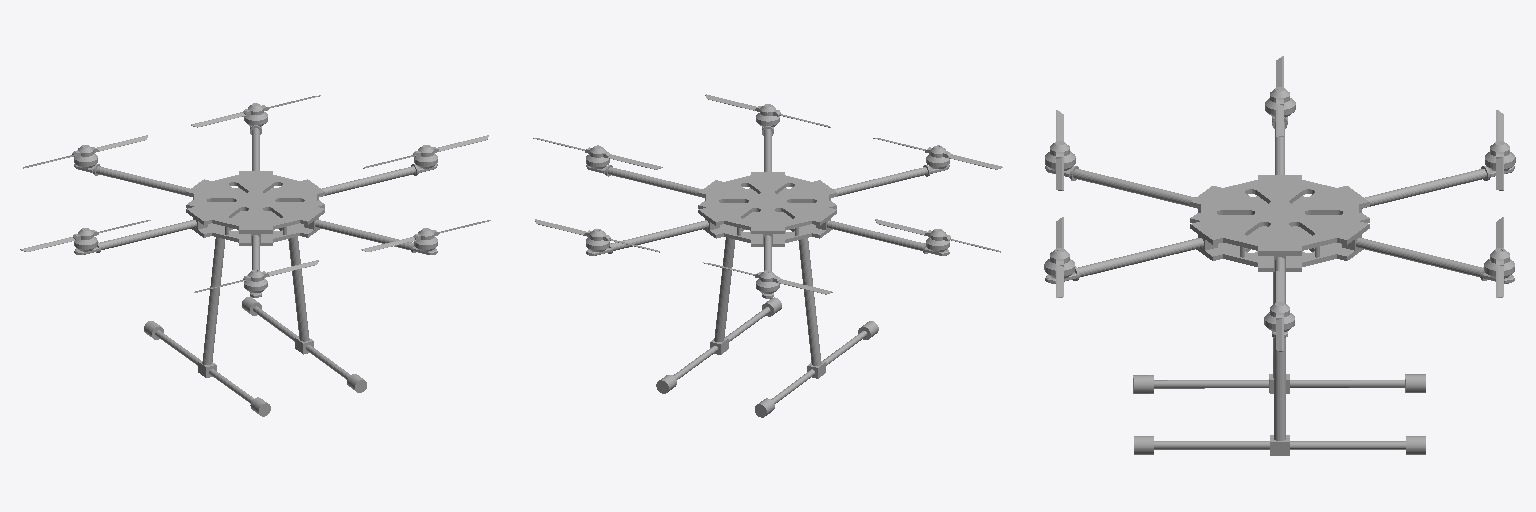
robot.urdf — myfirst:
<?xml version="1.0"?>
<robot name="myfirst">

<!--Frame -->

  <link name="base_link">
    <visual>
      <origin rpy="0 0 0" xyz="0 0 0"/>
      <geometry>
        <mesh filename="package://heifu/meshes/base_link.dae" scale="0.002 0.002 0.002"/>
      </geometry> 
      <material name="white"/>    
    </visual>
    <collision>
      <origin rpy="0 0 0" xyz="0 0 0"/>
      <geometry>
        <mesh filename="package://heifu/meshes/base_link.dae" scale="0.002 0.002 0.002"/>
      </geometry>
    </collision>
    <inertial>
      <mass value="3.0"/>
      <inertia ixx="0.1" ixy="0.0" ixz="0.0" iyy="0.1" iyz="0.0" izz="0.5"/>
    </inertial>
  </link>

<!--Pernas -->
  <link name="pernas">
    <visual>
      <origin rpy="0 0 0" xyz="0 0 0"/>
      <geometry>
        <mesh filename="package://heifu/meshes/perna.dae" scale="0.002 0.002 0.002"/>
      </geometry> 
      <material name="white"/>    
    </visual>
    <collision>
      <origin rpy="0 0 0" xyz="0 0 0"/>
      <geometry>
        <mesh filename="package://heifu/meshes/perna.dae" scale="0.002 0.002 0.002"/>
      </geometry>
    </collision>
    <inertial>
      <mass value="0.25"/>
      <inertia ixx="0.02" ixy="0.0" ixz="0.0" iyy="0.02" iyz="0.0" izz="0.002"/>
    </inertial>
  </link>

  <link name="pernas2">
    <visual>
      <origin rpy="0 0 0" xyz="0 0 0"/>
      <geometry>
        <mesh filename="package://heifu/meshes/perna.dae" scale="0.002 0.002 0.002"/>
      </geometry> 
      <material name="white"/>    
    </visual>
    <collision>
      <origin rpy="0 0 0" xyz="0 0 0"/>
      <geometry>
        <mesh filename="package://heifu/meshes/perna.dae" scale="0.002 0.002 0.002"/>
      </geometry>
    </collision>
    <inertial>
      <mass value="0.25"/>
      <inertia ixx="0.02" ixy="0.0" ixz="0.0" iyy="0.02" iyz="0.0" izz="0.002"/>
    </inertial>
  </link>


<!--Uniao pernas com frame -->
  <joint name="base_to_leg1" type="fixed">
      <parent link="base_link"/>
      <child link="pernas"/>
      <origin xyz="0.2 0 0" rpy="0 0 0"/>
  </joint>

  <joint name="base_to_leg2" type="fixed">
      <parent link="base_link"/>
      <child link="pernas2"/>
      <origin xyz="-0.2 0 0" rpy="0 0 3.15"/>
  </joint>




<!--Propellers  -->
  <link name="prop1">
    <visual>
      <origin rpy="0 0 0" xyz="0 0 0"/>
      <geometry>
        <mesh filename="package://heifu/meshes/propD.dae" scale="0.002 0.002 0.002"/>
      </geometry> 
      <material name="white"/>    
    </visual>
    <collision>
      <origin rpy="0 0 0" xyz="0 0 0"/>
      <geometry>
        <mesh filename="package://heifu/meshes/propD.dae" scale="0.002 0.002 0.002"/>
      </geometry>
    </collision>
    <inertial>
      <mass value="0.002"/>
      <inertia ixx="9.75e-07" ixy="0.0" ixz="0.0" iyy="0.000326704166667" iyz="0.0" izz="0.000327604166667"/>
    </inertial>
  </link>

  <link name="prop2">
    <visual>
      <origin rpy="0 0 0" xyz="0 0 0"/>
      <geometry>
        <mesh filename="package://heifu/meshes/propD.dae" scale="0.002 0.002 0.002"/>
      </geometry> 
      <material name="white"/>    
    </visual>
    <collision>
      <origin rpy="0 0 0" xyz="0 0 0"/>
      <geometry>
        <mesh filename="package://heifu/meshes/propD.dae" scale="0.002 0.002 0.002"/>
      </geometry>
    </collision>
    <inertial>
      <mass value="0.002"/>
      <inertia ixx="9.75e-07" ixy="0.0" ixz="0.0" iyy="0.000326704166667" iyz="0.0" izz="0.000327604166667"/>
    </inertial>
  </link>

  <link name="prop3">
    <visual>
      <origin rpy="0 0 0" xyz="0 0 0"/>
      <geometry>
        <mesh filename="package://heifu/meshes/propD.dae" scale="0.002 0.002 0.002"/>
      </geometry> 
      <material name="white"/>    
    </visual>
    <collision>
      <origin rpy="0 0 0" xyz="0 0 0"/>
      <geometry>
        <mesh filename="package://heifu/meshes/propD.dae" scale="0.002 0.002 0.002"/>
      </geometry>
    </collision>
    <inertial>
      <mass value="0.002"/>
      <inertia ixx="9.75e-07" ixy="0.0" ixz="0.0" iyy="0.000326704166667" iyz="0.0" izz="0.000327604166667"/>
    </inertial>
  </link>


  <link name="prop4">
    <visual>
      <origin rpy="0 0 0" xyz="0 0 0"/>
      <geometry>
        <mesh filename="package://heifu/meshes/propE.dae" scale="0.002 0.002 0.002"/>
      </geometry> 
      <material name="white"/>    
    </visual>
    <collision>
      <origin rpy="0 0 0" xyz="0 0 0"/>
      <geometry>
        <mesh filename="package://heifu/meshes/propE.dae" scale="0.002 0.002 0.002"/>
      </geometry>
    </collision>
    <inertial>
      <mass value="0.002"/>
      <inertia ixx="9.75e-07" ixy="0.0" ixz="0.0" iyy="0.000326704166667" iyz="0.0" izz="0.000327604166667"/>
    </inertial>
  </link>


  <link name="prop5">
    <visual>
      <origin rpy="0 0 0" xyz="0 0 0"/>
      <geometry>
        <mesh filename="package://heifu/meshes/propE.dae" scale="0.002 0.002 0.002"/>
      </geometry> 
      <material name="white"/>    
    </visual>
    <collision>
      <origin rpy="0 0 0" xyz="0 0 0"/>
      <geometry>
        <mesh filename="package://heifu/meshes/propE.dae" scale="0.002 0.002 0.002"/>
      </geometry>
    </collision>
    <inertial>
      <mass value="0.002"/>
      <inertia ixx="9.75e-07" ixy="0.0" ixz="0.0" iyy="0.000326704166667" iyz="0.0" izz="0.000327604166667"/>
    </inertial>
  </link>


  <link name="prop6">
    <visual>
      <origin rpy="0 0 0" xyz="0 0 0"/>
      <geometry>
        <mesh filename="package://heifu/meshes/propE.dae" scale="0.002 0.002 0.002"/>
      </geometry> 
      <material name="white"/>    
    </visual>
    <collision>
      <origin rpy="0 0 0" xyz="0 0 0"/>
      <geometry>
        <mesh filename="package://heifu/meshes/propE.dae" scale="0.002 0.002 0.002"/>
      </geometry>
    </collision>
    <inertial>
      <mass value="0.002"/>
      <inertia ixx="9.75e-07" ixy="0.0" ixz="0.0" iyy="0.000326704166667" iyz="0.0" izz="0.000327604166667"/>
    </inertial>
  </link>



<!--Uniao propellers com frame -->
  <joint name="base_to_prop1" type="continuous">
      <parent link="base_link"/>
      <child link="prop1"/>
      <origin xyz="0.98 0 0" rpy="0 0 0"/>
      <axis rpy="0 0 0" xyz="0 0 1"/>
  </joint>


  <joint name="base_to_prop2" type="continuous">
      <parent link="base_link"/>
      <child link="prop2"/>
      <origin xyz="-0.49 0.85 0" rpy="0 0 0"/>
      <axis rpy="0 0 0" xyz="0 0 1"/>
  </joint>


  <joint name="base_to_prop3" type="continuous">
      <parent link="base_link"/>
      <child link="prop3"/>
      <origin xyz="-0.49 -0.85 0" rpy="0 0 0"/>
      <axis rpy="0 0 0" xyz="0 0 1"/>
  </joint>
 

  <joint name="base_to_prop4" type="continuous">
      <parent link="base_link"/>
      <child link="prop4"/>
      <origin xyz="-0.98 0 0" rpy="0 0 0"/>
      <axis rpy="0 0 0" xyz="0 0 1"/>
  </joint>


  <joint name="base_to_prop5" type="continuous">
      <parent link="base_link"/>
      <child link="prop5"/>
      <origin xyz="0.49 0.85 0" rpy="0 0 0"/>
      <axis rpy="0 0 0" xyz="0 0 1"/>
  </joint>


  <joint name="base_to_prop6" type="continuous">
      <parent link="base_link"/>
      <child link="prop6"/>
      <origin xyz="0.49 -0.85 0" rpy="0 0 0"/>
      <axis rpy="0 0 0" xyz="0 0 1"/>
  </joint>
 

<!--Plugins de simulacao gazebo -->
  <gazebo>

   <!--Plugin de IMU. Publica Giroscopio e acelerometro -->
   <plugin name="imu_plugin" filename="libgazebo_ros_imu.so">
      <alwaysOn>true</alwaysOn>
      <bodyName>base_link</bodyName>
      <topicName>imu</topicName>
      <serviceName>imu_service</serviceName>
      <gaussianNoise>1.0</gaussianNoise>
      <updateRate>20.0</updateRate>
      <xyzOffsets>0 0 0</xyzOffsets>
      <rpyOffsets>0 0 0</rpyOffsets>
    </plugin>


    <!--Plugin de GPS -->
    <plugin name="gps_controller" filename="libhector_gazebo_ros_gps.so">
      <robotNamespace>myfirst</robotNamespace>
      <updateRate>40</updateRate>
      <bodyName>base_link</bodyName>
      <frameId>base_link</frameId>
      <topicName>gps/fix</topicName>
      <velocityTopicName>navsat/vel</velocityTopicName>
      <referenceLatitude>0.0</referenceLatitude>
      <referenceLongitude>0.0</referenceLongitude>
      <referenceHeading>0</referenceHeading>
      <referenceAltitude>0.8</referenceAltitude>
      <drift>0.001 0.001 0.001</drift>
    </plugin>

    <plugin filename="librotors_gazebo_multirotor_base_plugin.so" name="rosbag">
      <robotNamespace>myfirst</robotNamespace>
      <linkName>base_link</linkName>
      <rotorVelocitySlowdownSim>10</rotorVelocitySlowdownSim>
    </plugin>


    <!--Plugin de controle de velocidade dos motores -->
    <plugin filename="librotors_gazebo_motor_model.so" name="right_motor_model">
      <robotNamespace>myfirst</robotNamespace>
      <jointName>base_to_prop1</jointName>
      <linkName>prop1</linkName>
      <turningDirection>cw</turningDirection>
      <timeConstantUp>0.0</timeConstantUp>
      <timeConstantDown>0.0</timeConstantDown>
      <maxRotVelocity>550</maxRotVelocity>
      <motorConstant>2.39e-05</motorConstant>
      <momentConstant>0.016</momentConstant>
      <commandSubTopic>gazebo/command/motor_speed</commandSubTopic>
      <motorNumber>0</motorNumber>
      <rotorDragCoefficient>1.3858e-06</rotorDragCoefficient>
      <rollingMomentCoefficient>1e-06</rollingMomentCoefficient>
      <motorSpeedPubTopic>motor_speed/0</motorSpeedPubTopic>
      <rotorVelocitySlowdownSim>0.5</rotorVelocitySlowdownSim>
    </plugin>

    <plugin filename="librotors_gazebo_motor_model.so" name="front_left_motor_model">
      <robotNamespace>myfirst</robotNamespace>
      <jointName>base_to_prop2</jointName>
      <linkName>prop2</linkName>
      <turningDirection>cw</turningDirection>
      <timeConstantUp>0.0</timeConstantUp>
      <timeConstantDown>0.0</timeConstantDown>
      <maxRotVelocity>550</maxRotVelocity>
      <motorConstant>2.39e-05</motorConstant>
      <momentConstant>0.016</momentConstant>
      <commandSubTopic>gazebo/command/motor_speed</commandSubTopic>
      <motorNumber>1</motorNumber>
      <rotorDragCoefficient>1.3858e-06</rotorDragCoefficient>
      <rollingMomentCoefficient>1e-06</rollingMomentCoefficient>
      <motorSpeedPubTopic>motor_speed/1</motorSpeedPubTopic>
      <rotorVelocitySlowdownSim>0.5</rotorVelocitySlowdownSim>
    </plugin>

    <plugin filename="librotors_gazebo_motor_model.so" name="back_left_motor_model">
      <robotNamespace>myfirst</robotNamespace>
      <jointName>base_to_prop3</jointName>
      <linkName>prop3</linkName>
      <turningDirection>cw</turningDirection>
      <timeConstantUp>0.0</timeConstantUp>
      <timeConstantDown>0.0</timeConstantDown>
      <maxRotVelocity>550</maxRotVelocity>
      <motorConstant>2.39e-05</motorConstant>
      <momentConstant>0.016</momentConstant>
      <commandSubTopic>gazebo/command/motor_speed</commandSubTopic>
      <motorNumber>2</motorNumber>
      <rotorDragCoefficient>1.3858e-06</rotorDragCoefficient>
      <rollingMomentCoefficient>1e-06</rollingMomentCoefficient>
      <motorSpeedPubTopic>motor_speed/2</motorSpeedPubTopic>
      <rotorVelocitySlowdownSim>0.5</rotorVelocitySlowdownSim>
    </plugin>

    <plugin filename="librotors_gazebo_motor_model.so" name="left_motor_model">
      <robotNamespace>myfirst</robotNamespace>
      <jointName>base_to_prop4</jointName>
      <linkName>prop4</linkName>
      <turningDirection>ccw</turningDirection>
      <timeConstantUp>0.0</timeConstantUp>
      <timeConstantDown>0.0</timeConstantDown>
      <maxRotVelocity>550</maxRotVelocity>
      <motorConstant>2.39e-05</motorConstant>
      <momentConstant>0.016</momentConstant>
      <commandSubTopic>gazebo/command/motor_speed</commandSubTopic>
      <motorNumber>3</motorNumber>
      <rotorDragCoefficient>1.3858e-06</rotorDragCoefficient>
      <rollingMomentCoefficient>1e-06</rollingMomentCoefficient>
      <motorSpeedPubTopic>motor_speed/3</motorSpeedPubTopic>
      <rotorVelocitySlowdownSim>0.5</rotorVelocitySlowdownSim>
    </plugin>


    <plugin filename="librotors_gazebo_motor_model.so" name="front_right_motor_model">
      <robotNamespace>myfirst</robotNamespace>
      <jointName>base_to_prop5</jointName>
      <linkName>prop5</linkName>
      <turningDirection>ccw</turningDirection>
      <timeConstantUp>0.0</timeConstantUp>
      <timeConstantDown>0.0</timeConstantDown>
      <maxRotVelocity>550</maxRotVelocity>
      <motorConstant>2.39e-05</motorConstant>
      <momentConstant>0.016</momentConstant>
      <commandSubTopic>gazebo/command/motor_speed</commandSubTopic>
      <motorNumber>4</motorNumber>
      <rotorDragCoefficient>1.3858e-06</rotorDragCoefficient>
      <rollingMomentCoefficient>1e-06</rollingMomentCoefficient>
      <motorSpeedPubTopic>motor_speed/4</motorSpeedPubTopic>
      <rotorVelocitySlowdownSim>0.5</rotorVelocitySlowdownSim>
    </plugin>



    <plugin filename="librotors_gazebo_motor_model.so" name="back_right_motor_model">
      <robotNamespace>myfirst</robotNamespace>
      <jointName>base_to_prop6</jointName>
      <linkName>prop6</linkName>
      <turningDirection>ccw</turningDirection>
      <timeConstantUp>0.0</timeConstantUp>
      <timeConstantDown>0.0</timeConstantDown>
      <maxRotVelocity>550</maxRotVelocity>
      <motorConstant>2.39e-05</motorConstant>
      <momentConstant>0.016</momentConstant>
      <commandSubTopic>gazebo/command/motor_speed</commandSubTopic>
      <motorNumber>5</motorNumber>
      <rotorDragCoefficient>1.3858e-06</rotorDragCoefficient>
      <rollingMomentCoefficient>1e-06</rollingMomentCoefficient>
      <motorSpeedPubTopic>motor_speed/5</motorSpeedPubTopic>
      <rotorVelocitySlowdownSim>0.5</rotorVelocitySlowdownSim>
    </plugin>
  

  </gazebo>
</robot>

--- Facts derived from the render (not from the file) ---
Views: 3 orthographic renders of the robot side by side, from view 1: azimuth 30°, elevation 25°; view 2: azimuth 150°, elevation 25°; view 3: azimuth 270°, elevation 25°.
Model myfirst with 9 links and 8 joints (6 continuous, 2 fixed), rooted at base_link, posed every joint at zero.
Links seen in each view (by area): view 1: base_link, pernas2, pernas, prop4, prop5, prop6, prop1, prop2, prop3; view 2: base_link, pernas2, pernas, prop6, prop3, prop4, prop1, prop2, prop5; view 3: base_link, pernas, pernas2, prop1, prop4, prop2, prop3, prop5, prop6.
Link boxes in pixels (bbox=[...]): base_link: bbox=[74, 104, 437, 297]; pernas2: bbox=[144, 237, 270, 416]; pernas: bbox=[242, 237, 366, 392]; prop4: bbox=[20, 220, 150, 251]; prop5: bbox=[191, 95, 320, 127]; prop6: bbox=[361, 220, 490, 251]; prop1: bbox=[363, 135, 488, 168]; prop2: bbox=[23, 135, 147, 168]; prop3: bbox=[194, 260, 318, 292]; base_link: bbox=[586, 105, 949, 298]; pernas2: bbox=[755, 231, 878, 417]; pernas: bbox=[656, 237, 781, 393]; prop6: bbox=[705, 94, 830, 127]; prop3: bbox=[873, 138, 1002, 169]; prop4: bbox=[875, 219, 1000, 252]; prop1: bbox=[533, 138, 662, 169]; prop2: bbox=[703, 262, 832, 294]; prop5: bbox=[535, 219, 659, 252]; base_link: bbox=[1044, 88, 1515, 337]; pernas: bbox=[1134, 272, 1425, 455]; pernas2: bbox=[1133, 272, 1425, 393]; prop1: bbox=[1270, 271, 1289, 351]; prop4: bbox=[1270, 56, 1289, 136]; prop2: bbox=[1490, 110, 1509, 190]; prop3: bbox=[1050, 110, 1069, 190]; prop5: bbox=[1490, 217, 1509, 297]; prop6: bbox=[1050, 217, 1069, 297].
Size in the robot's own frame: 2.69 by 1.82 by 0.965 metres.
9 mesh visuals loaded from 4 distinct referenced files (4 Collada DAE).
